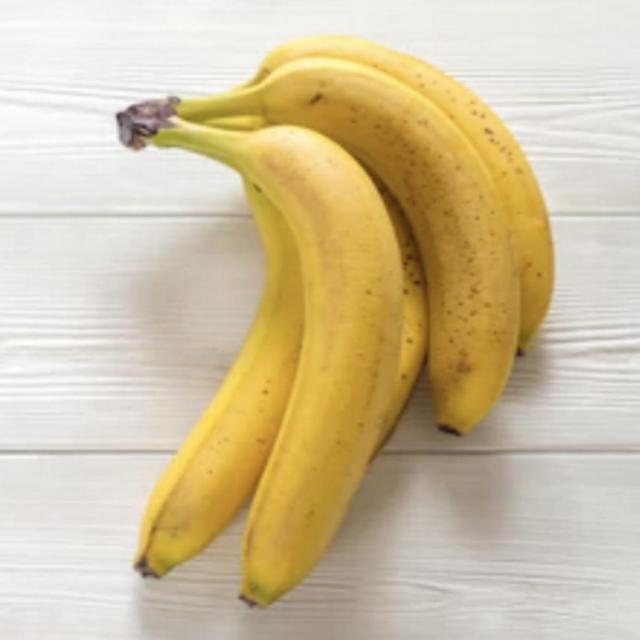banana: (255, 28, 638, 502), (115, 84, 432, 603)
